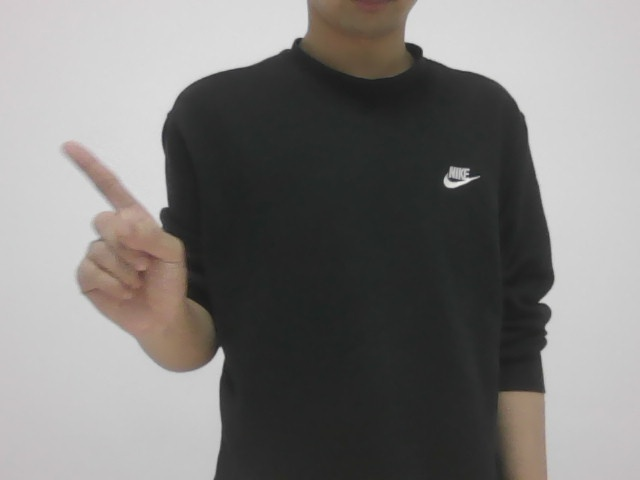what: (38, 132, 192, 348)
